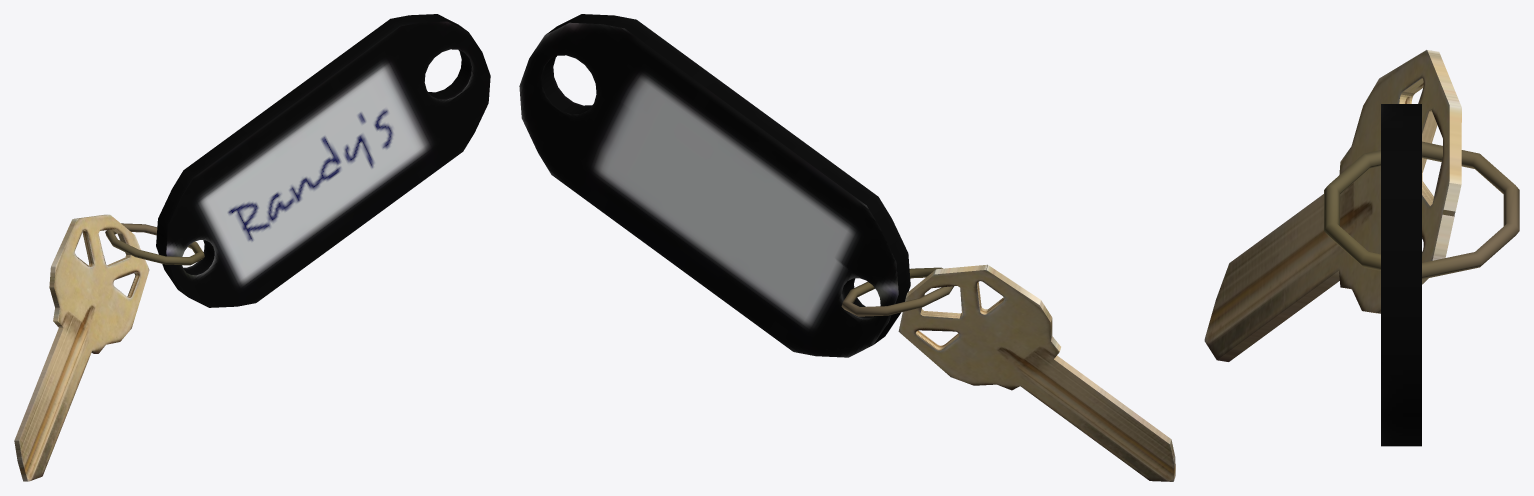
Rendered from apartment_key.FBX.
3 views of the same model, side by side, from view 1: azimuth 30°, elevation 25°; view 2: azimuth 150°, elevation 25°; view 3: azimuth 270°, elevation 25° (orthographic). The views are drawn at different scales.
Parts seen in each view (by area): view 1: snuff_key; view 2: snuff_key; view 3: snuff_key.
Part boxes in pixels (x1,y1,x2,y2): snuff_key: [14, 14, 490, 481]; snuff_key: [519, 14, 1175, 481]; snuff_key: [1204, 50, 1519, 446].
Bounding box in the file's own units: 51.34 × 31.15 × 13.72.
